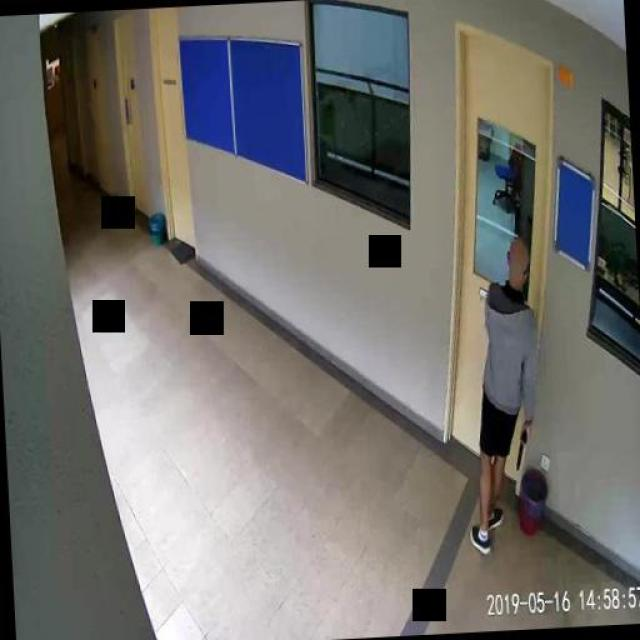gun: (512, 421, 532, 469)
